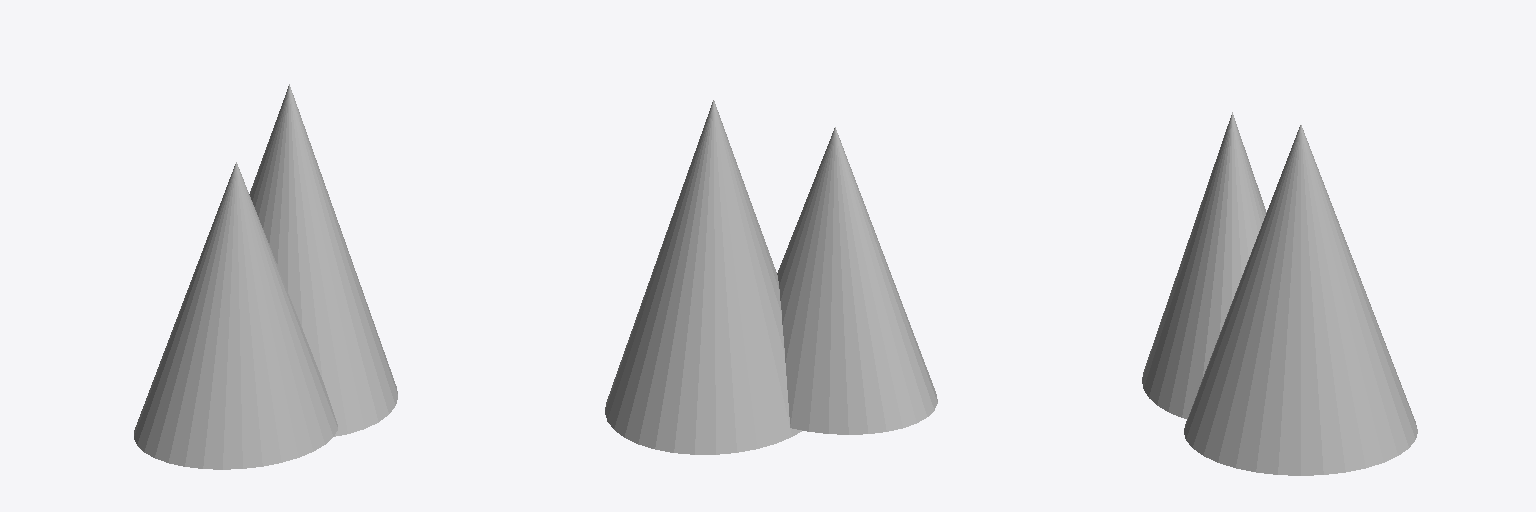
Rendered from test_cones.obj.
3 views of the same model, side by side, from view 1: azimuth 30°, elevation 25°; view 2: azimuth 150°, elevation 25°; view 3: azimuth 270°, elevation 25° (orthographic).
Parts seen in each view (by area): view 1: Cone1, Cone2; view 2: Cone2, Cone1; view 3: Cone2, Cone1.
Part boxes in pixels (left/top/right/bottom): Cone1: left=134, top=162, right=337, bottom=469; Cone2: left=249, top=84, right=397, bottom=436; Cone2: left=605, top=100, right=801, bottom=454; Cone1: left=777, top=127, right=937, bottom=434; Cone2: left=1184, top=125, right=1417, bottom=475; Cone1: left=1142, top=112, right=1266, bottom=418.
Bounding box in the file's own units: 2.28 × 2.46 × 2.01.